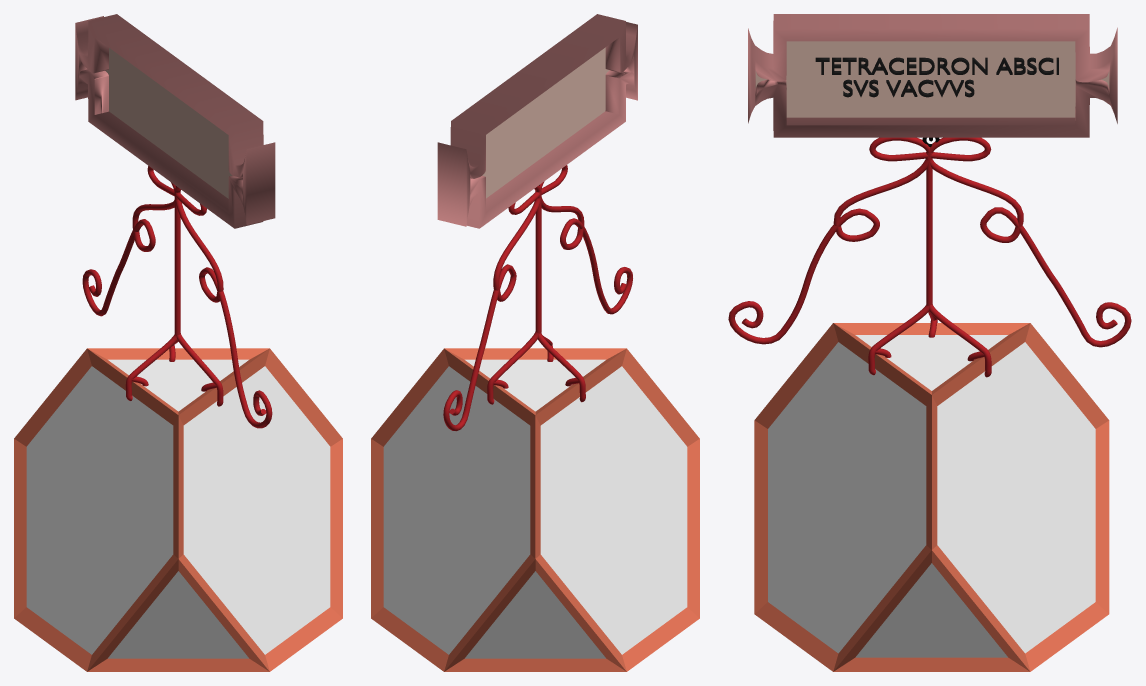
Rendered from Davinci_obra3.glb.
3 renders of one model, left to right at view 1: azimuth 30°, elevation 25°; view 2: azimuth 150°, elevation 25°; view 3: azimuth 270°, elevation 25°, orthographic. The views are drawn at different scales.
Parts seen in each view (by area): view 1: Solid, Solid.001, Cube, Cube.001, BézierCurve; view 2: Solid, Solid.001, Cube, Cube.001, BézierCurve; view 3: Solid, Solid.001, Cube, Cube.001, BézierCurve, Text.
Part boxes in pixels (left/top/right/bottom): Solid: left=26, top=359, right=330, bottom=658; Solid.001: left=14, top=348, right=342, bottom=671; Cube: left=75, top=14, right=275, bottom=228; Cube.001: left=105, top=48, right=232, bottom=198; BézierCurve: left=82, top=166, right=272, bottom=428; Solid: left=383, top=359, right=687, bottom=658; Solid.001: left=371, top=348, right=699, bottom=671; Cube: left=437, top=14, right=637, bottom=228; Cube.001: left=482, top=47, right=609, bottom=198; BézierCurve: left=443, top=165, right=632, bottom=431; Solid: left=768, top=335, right=1095, bottom=657; Solid.001: left=754, top=323, right=1109, bottom=671; Cube: left=748, top=14, right=1117, bottom=137; Cube.001: left=755, top=41, right=1109, bottom=117; BézierCurve: left=728, top=137, right=1131, bottom=377; Text: left=815, top=57, right=1058, bottom=97.
Size of the model in its own units: 2.26 by 4.02 by 2.5.
